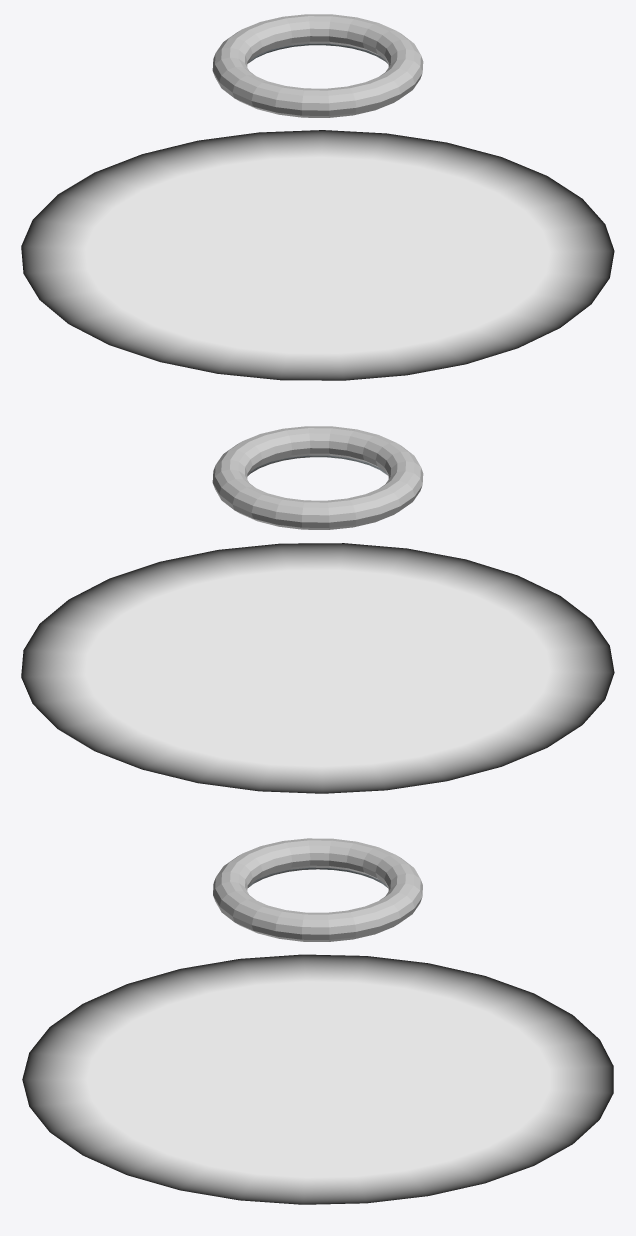
Rendered from pref_TPC_v2_NeutralScoreArea03_winter_purple_frozen_15s_lv2.fbx.
The picture shows the model from 3 angles, top to bottom: view 1: azimuth 30°, elevation 25°; view 2: azimuth 150°, elevation 25°; view 3: azimuth 270°, elevation 25°; orthographic projection.
Parts seen in each view (by area): view 1: dm_ice_1, ring; view 2: dm_ice_1, ring; view 3: dm_ice_1, ring.
Part boxes in pixels (x1,y1,x2,y2): dm_ice_1: [21, 130, 614, 380]; ring: [212, 14, 423, 117]; dm_ice_1: [21, 543, 614, 793]; ring: [212, 426, 423, 529]; dm_ice_1: [22, 954, 613, 1204]; ring: [213, 838, 422, 941].
Bounding box in the file's own units: 7.46 × 2.92 × 7.46.
